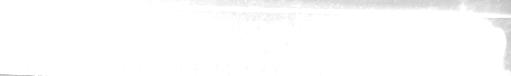letter: (47, 14, 87, 50), (14, 14, 45, 49), (118, 17, 149, 52), (318, 19, 345, 57), (207, 20, 236, 54), (151, 18, 179, 51), (290, 20, 315, 56), (348, 21, 373, 57), (264, 19, 288, 56), (455, 25, 481, 59), (403, 23, 428, 58), (90, 18, 116, 50), (237, 19, 260, 55), (481, 26, 505, 60), (429, 25, 453, 58), (181, 19, 204, 53), (376, 23, 399, 57)
